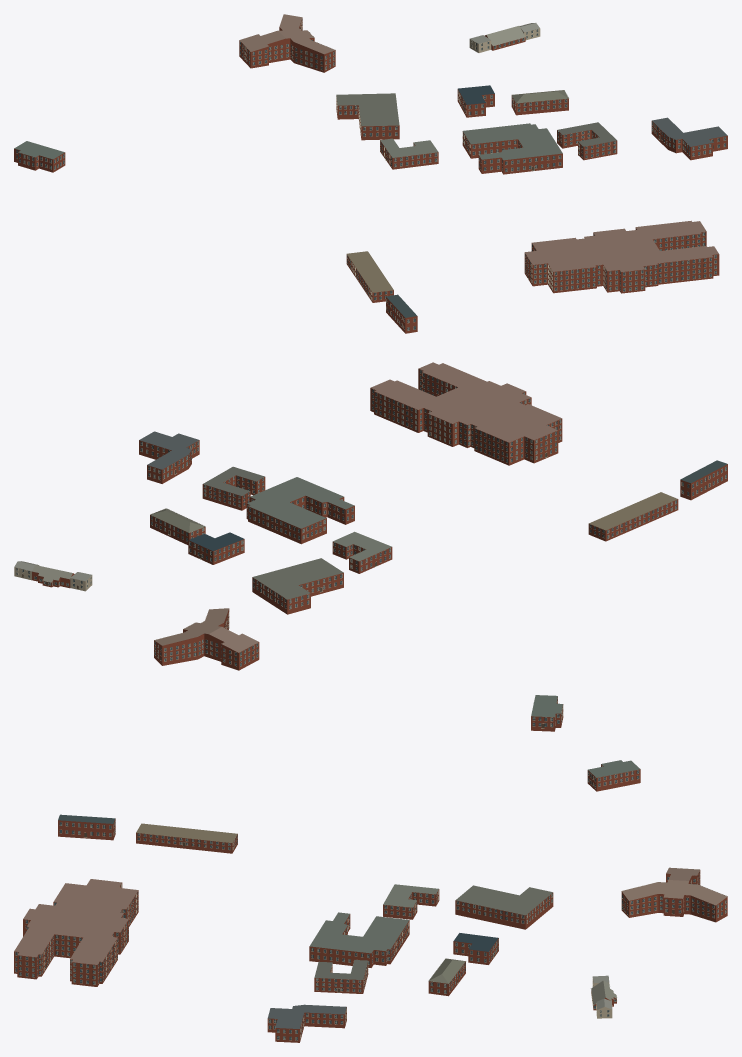
3 renders of one model, top to bottom at view 1: azimuth 30°, elevation 25°; view 2: azimuth 150°, elevation 25°; view 3: azimuth 270°, elevation 25°, orthographic. The views are drawn at different scales.
Visible parts, largest first — view 1: -5_0_271950756_0; view 2: -5_0_271950756_0; view 3: -5_0_271950756_0.
Boxes of the visible parts, bbox=[...] form: -5_0_271950756_0: bbox=[14, 14, 727, 333]; -5_0_271950756_0: bbox=[14, 362, 727, 731]; -5_0_271950756_0: bbox=[14, 760, 727, 1042].
Size of the model in its own units: 413 by 28.48 by 452.
